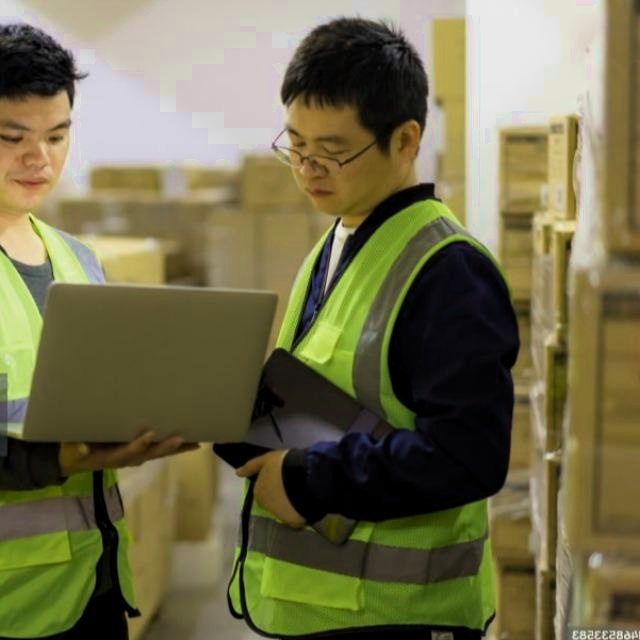Con_Chaleco: (256, 207, 505, 640)
Sin_Casco_Mascarrilla: (274, 19, 431, 212)
